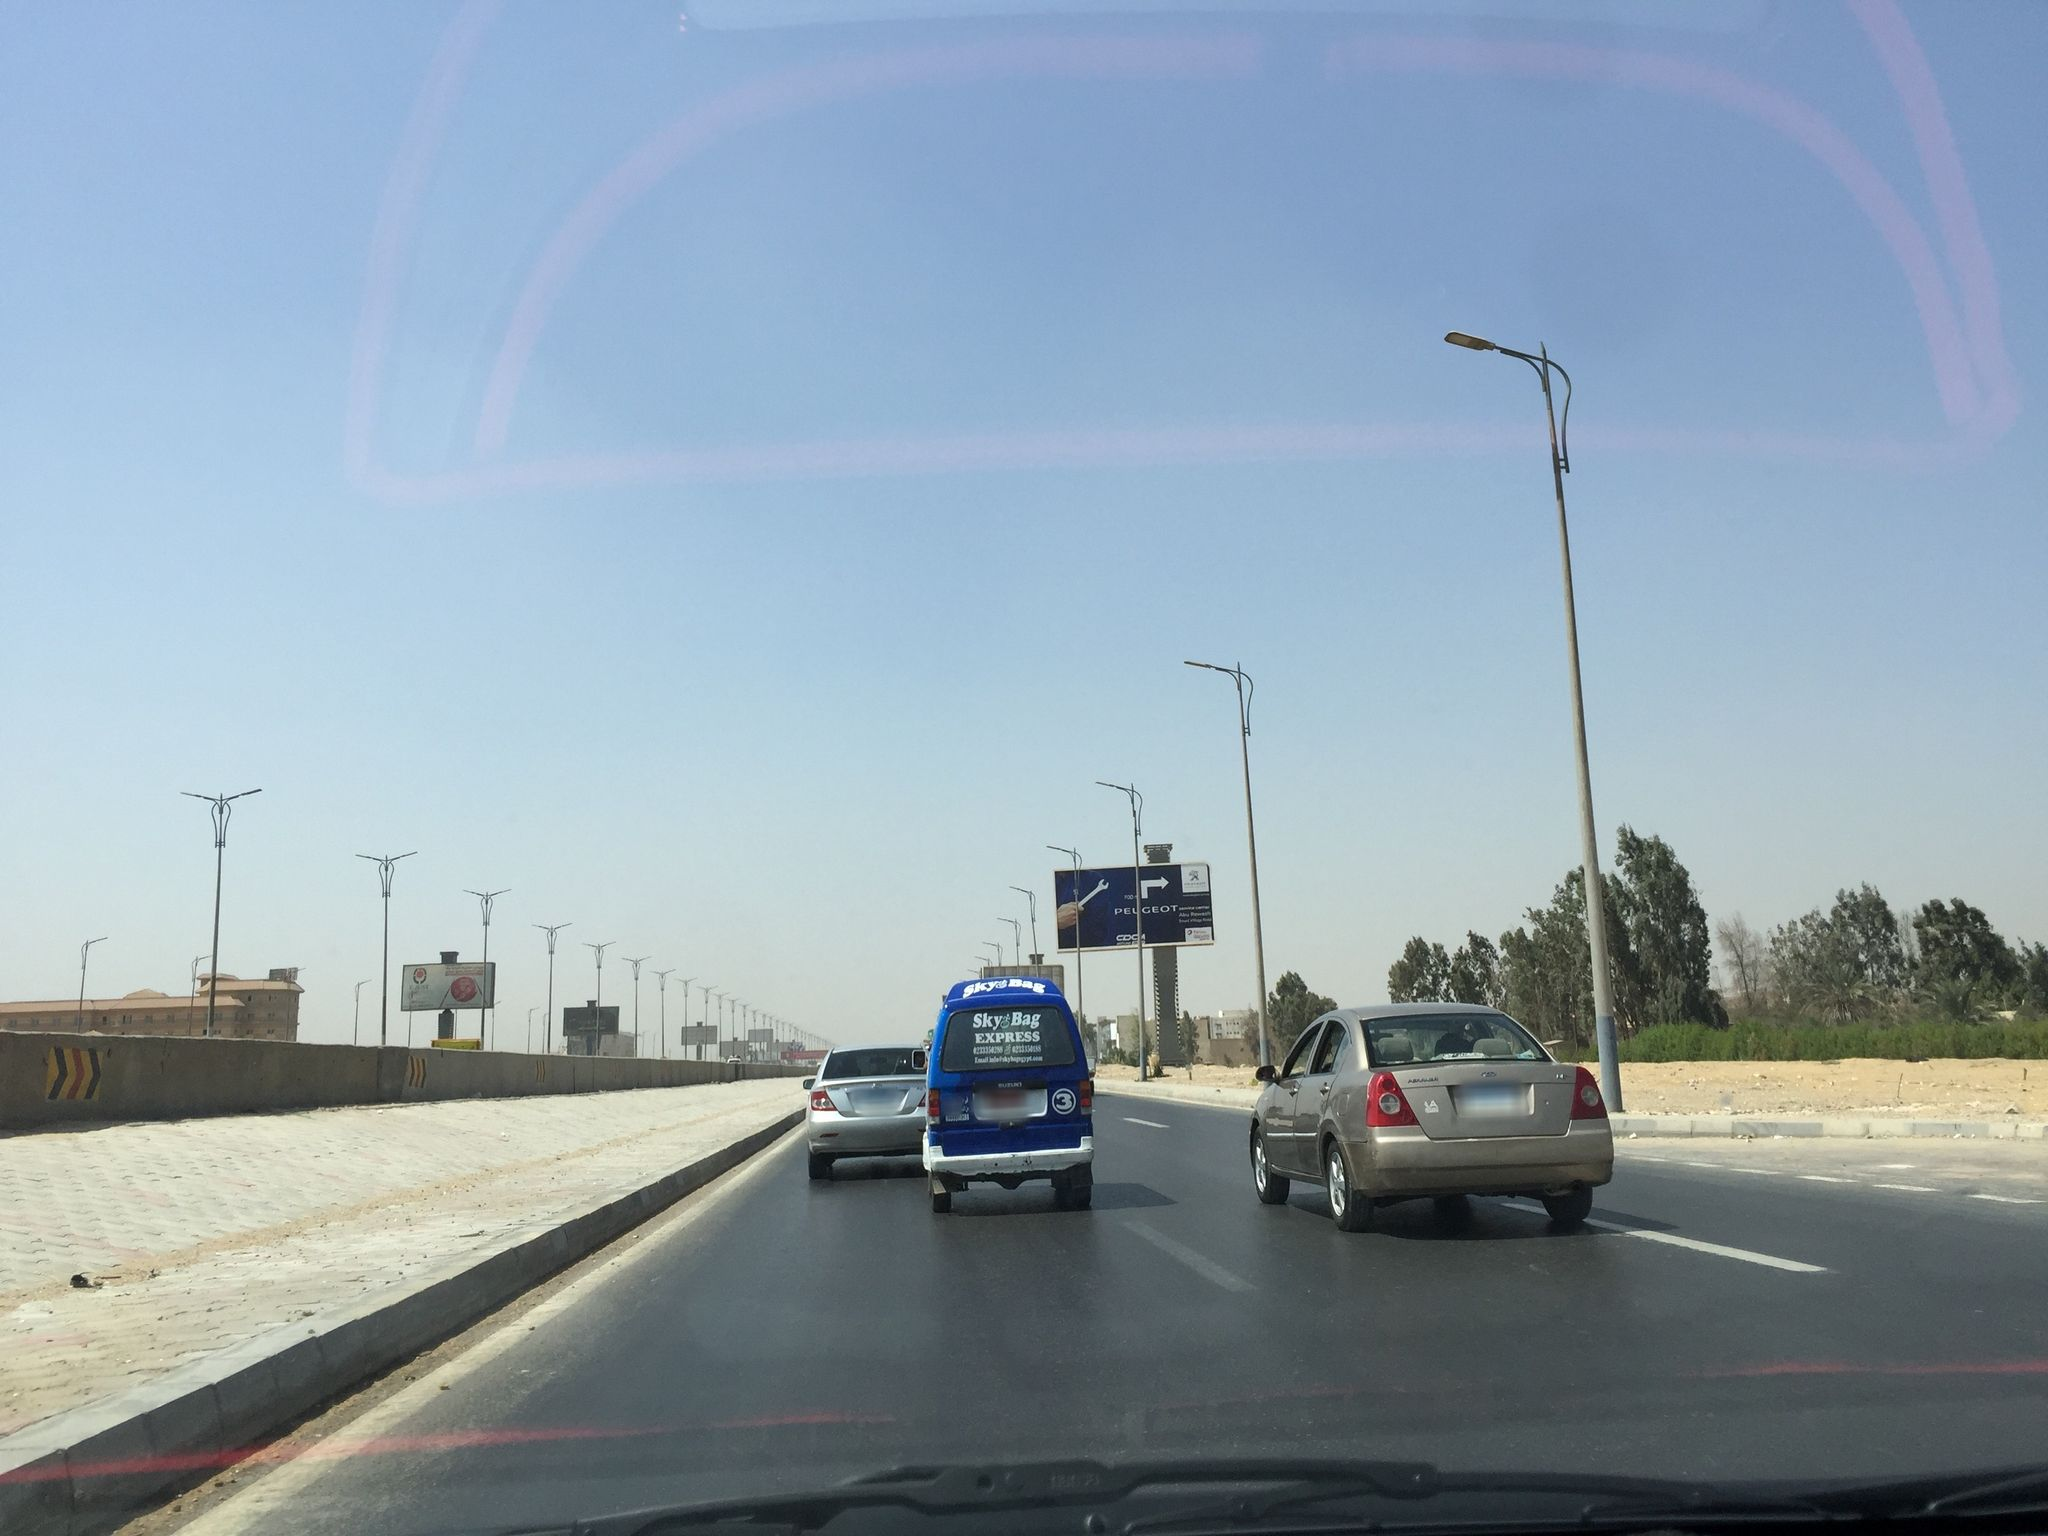car: (1248, 1000, 1617, 1233), (910, 976, 1097, 1208), (800, 1042, 935, 1181)
